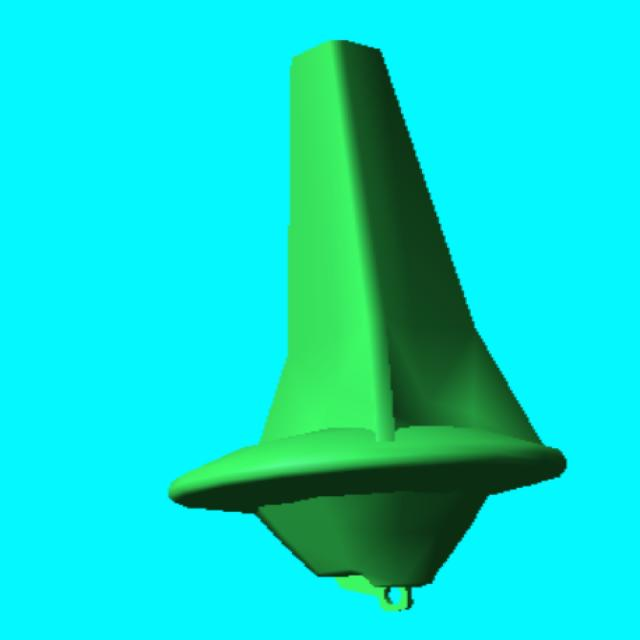GreenBuoy: (170, 41, 566, 592)
